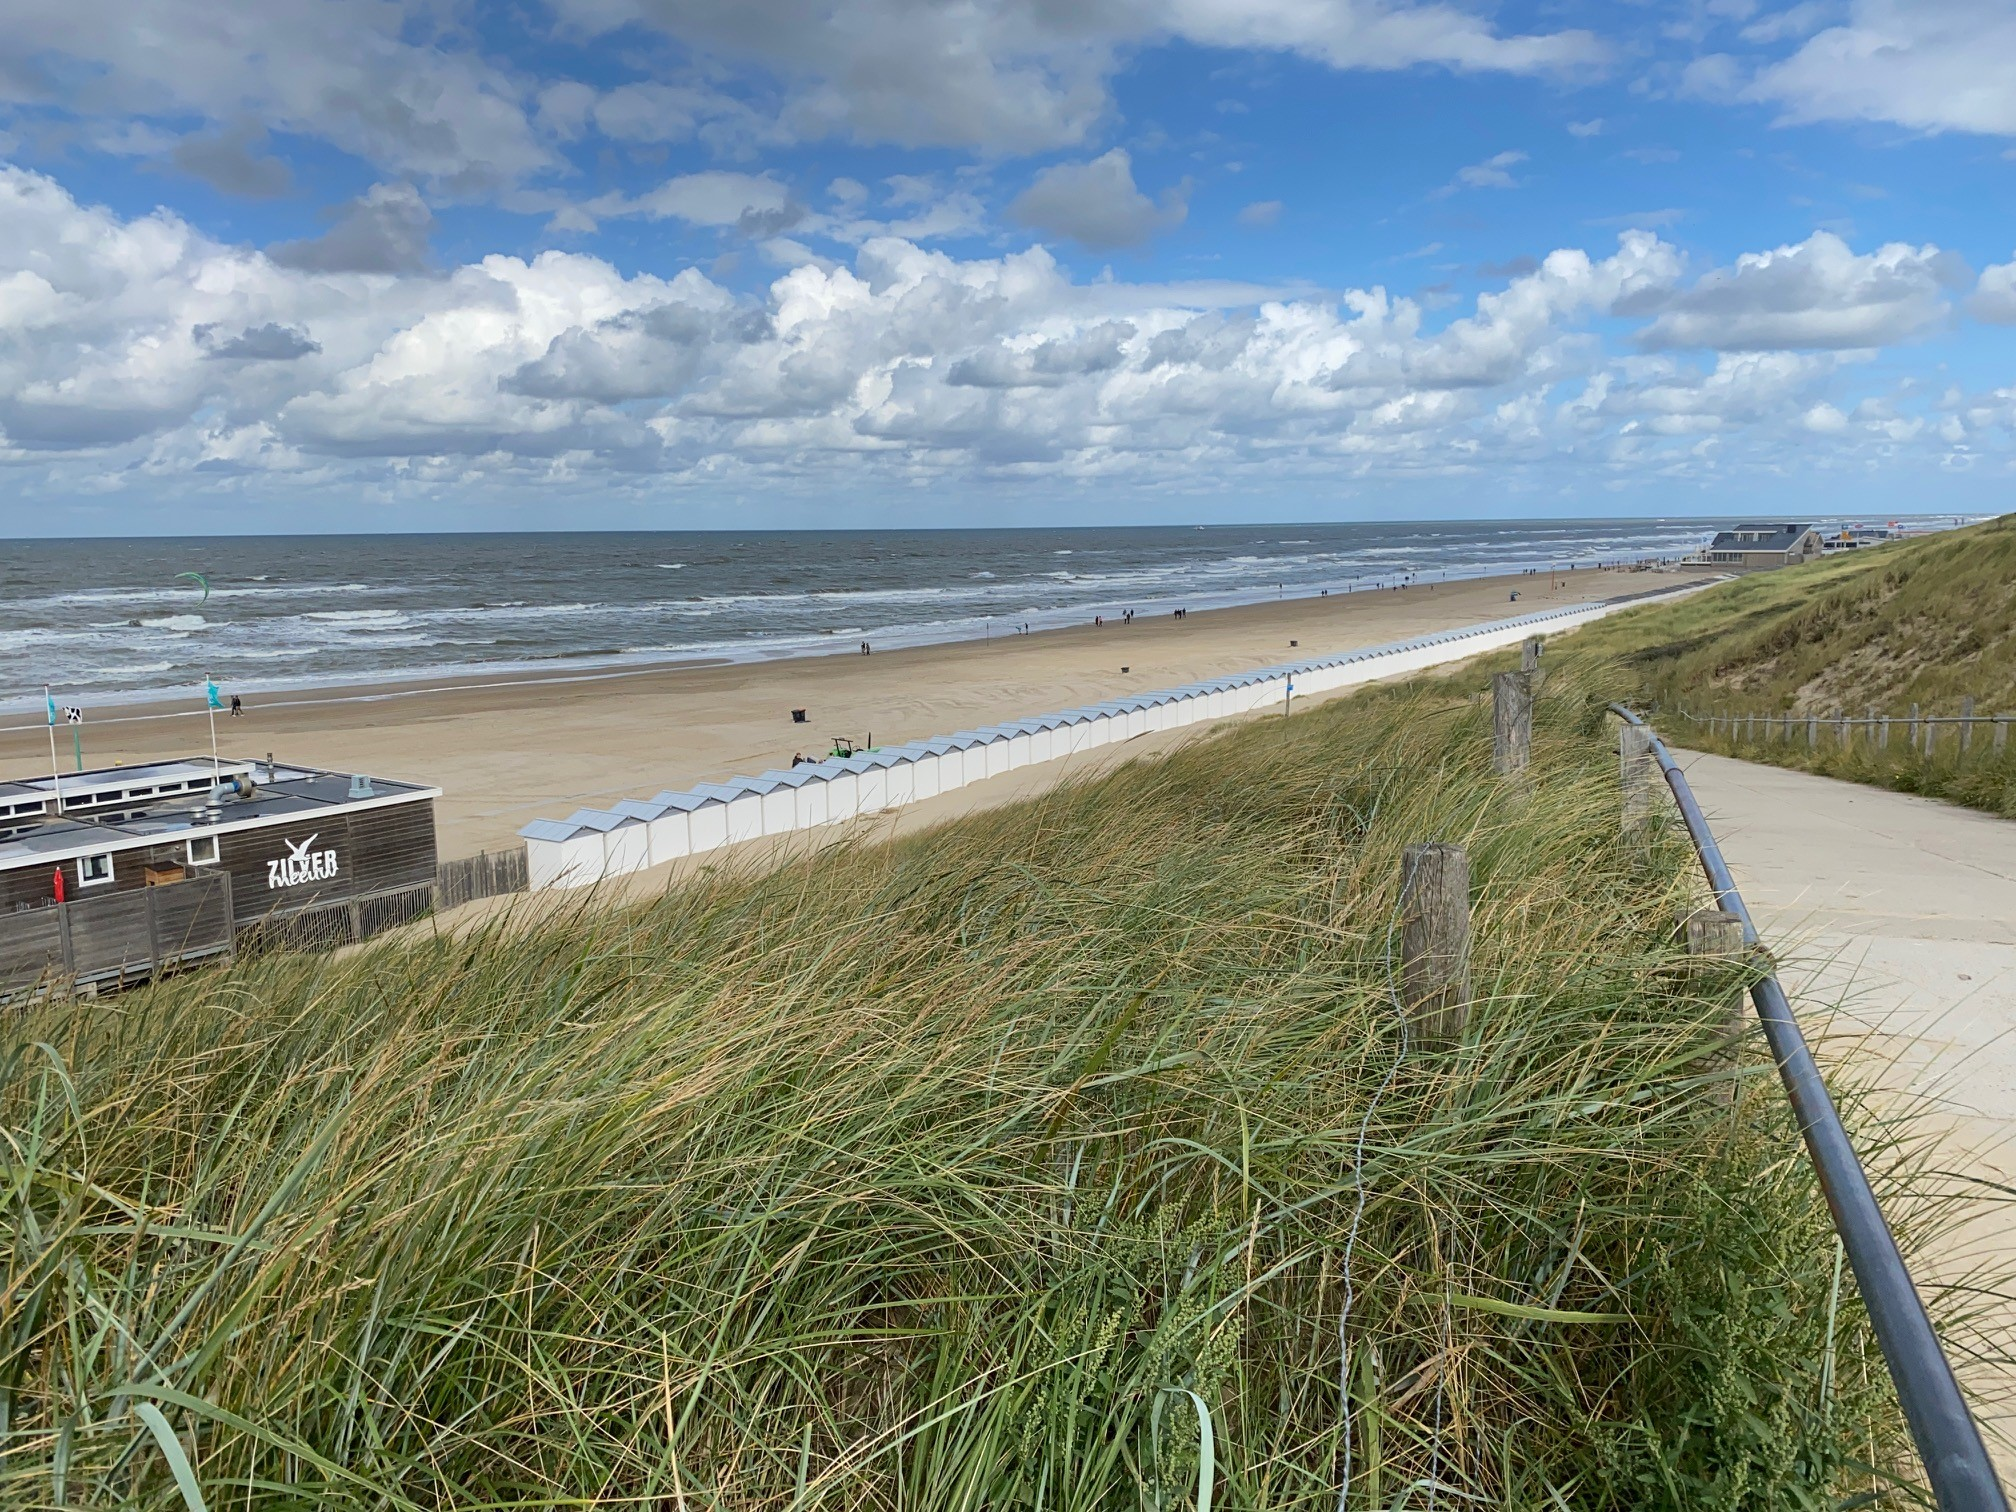zilvermeeuw: (3, 762, 459, 1005)
